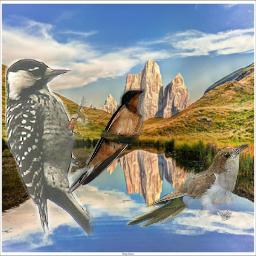Cuckoo: (125, 143, 250, 227)
Swallow: (65, 87, 147, 194)
Woodpecker: (5, 58, 97, 238)
